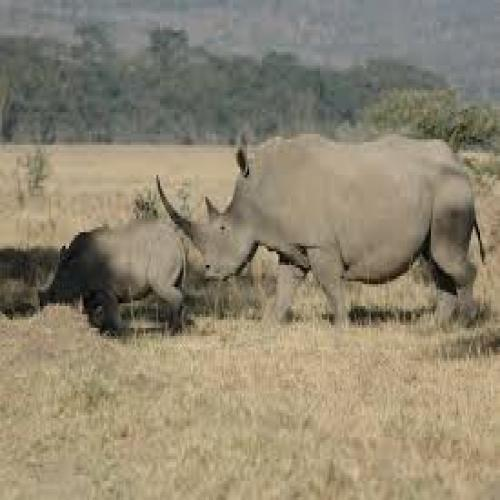rhino-endangered: (152, 136, 486, 326), (42, 220, 182, 333)
